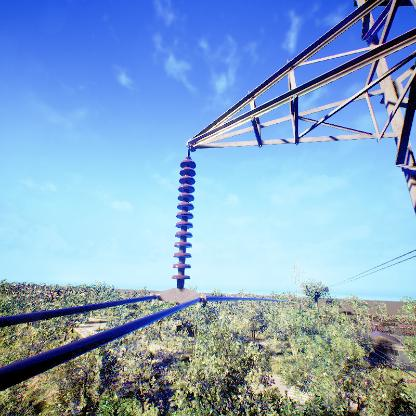insulator: (172, 157, 200, 284)
